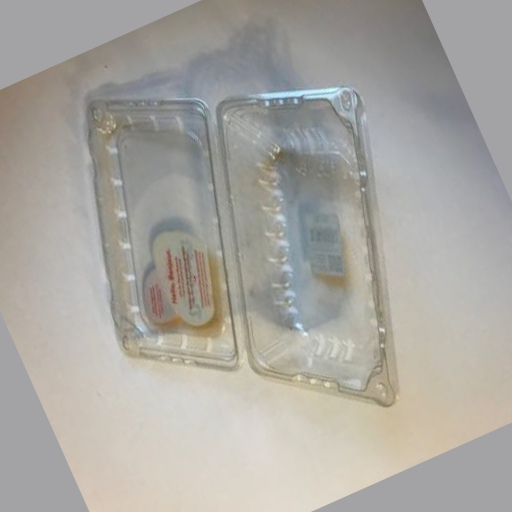Plastic_4: (83, 87, 397, 405)
